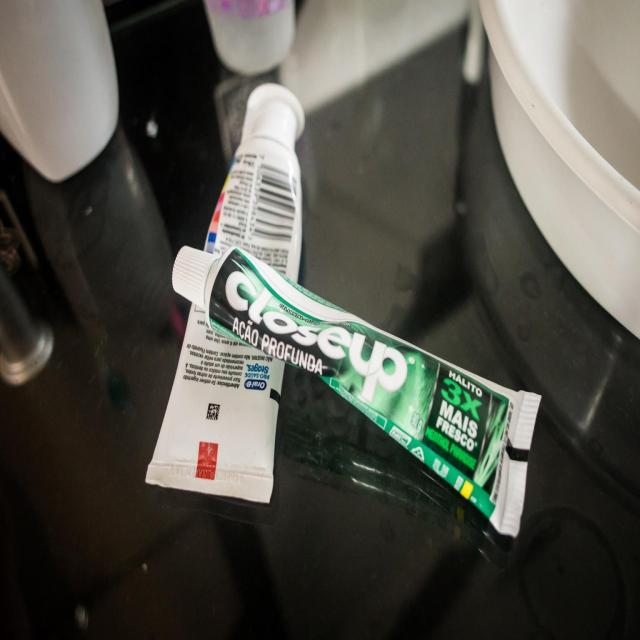Toothpaste: (170, 232, 543, 541), (146, 83, 306, 504)
